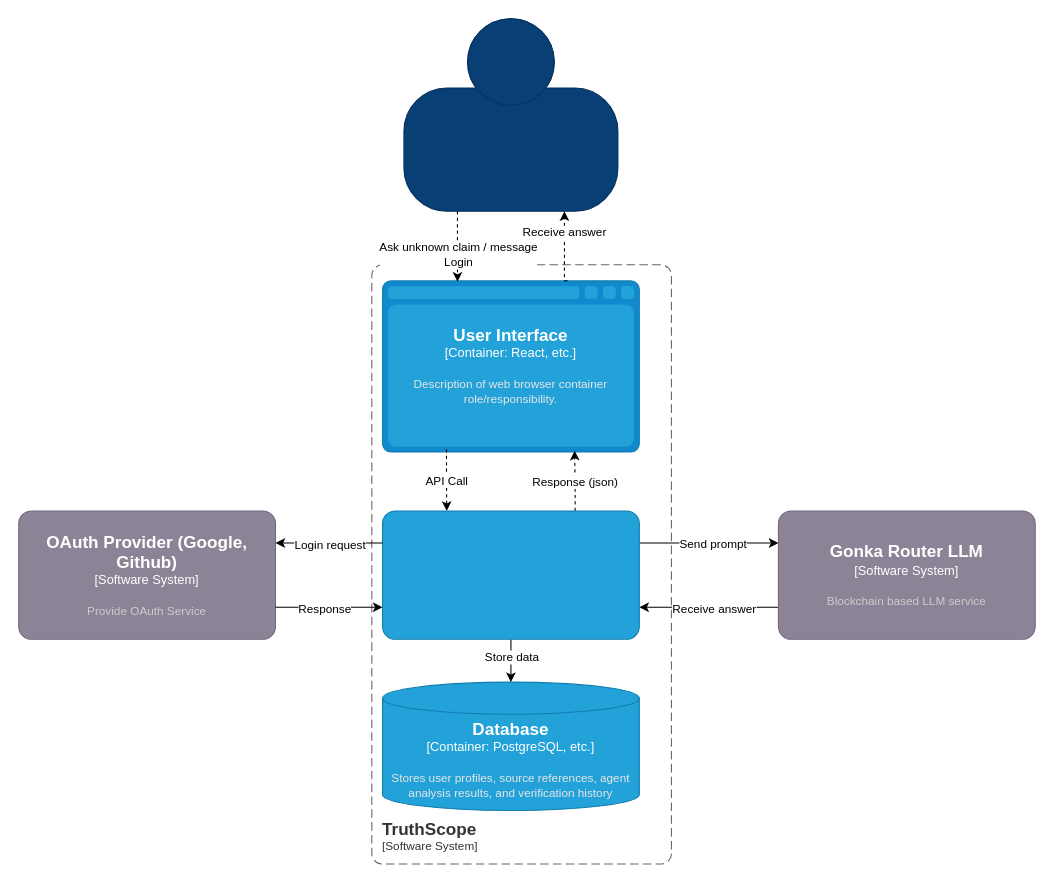
Image size: 1054x883. Some labels were removed from this diagram. Each missing label, with the centre of its shape:
Backend API [Container: FastAPI] OAuth, AI Service (Multi Agent System): the point at 510,574
Person name [Person] Description of person.: the point at 510,114
